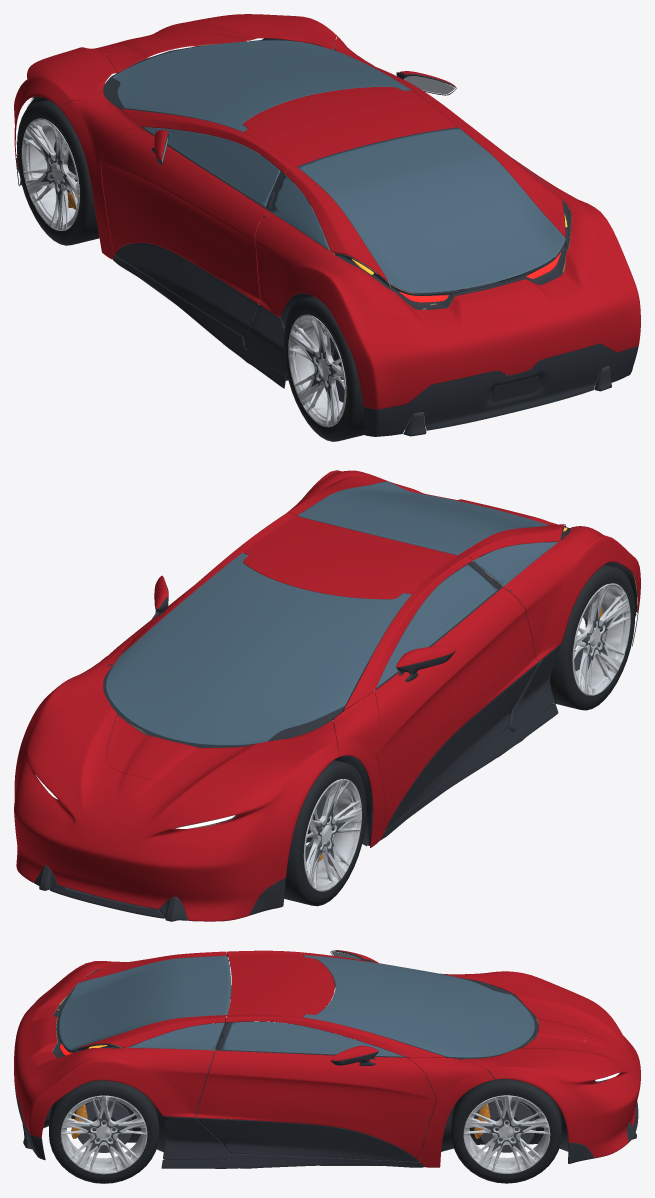
File: car.glb
3 renders of one model, top to bottom at view 1: azimuth 30°, elevation 25°; view 2: azimuth 150°, elevation 25°; view 3: azimuth 270°, elevation 25°, orthographic. The views are drawn at different scales.
Visible parts, largest first — view 1: car_paint, car_glass, car_trim, wheel_lf_alloy, wheel_lr_alloy, wheel_lf_rubber, wheel_lr_rubber; view 2: car_paint, car_glass, car_trim, wheel_lf_alloy, wheel_lr_alloy, wheel_lr_rubber, wheel_lf_rubber; view 3: car_paint, car_glass, car_trim, wheel_rf_rubber, wheel_rr_rubber, wheel_rr_alloy, wheel_rf_alloy, brake_rf_darkalloy, car_darkalloy, wheel_rr_darkalloy, wheel_rf_darkalloy.
Boxes of the visible parts, <box> form: car_paint: <box>14,14,640,409</box>; car_glass: <box>113,40,565,293</box>; car_trim: <box>15,38,638,436</box>; wheel_lf_alloy: <box>21,118,79,230</box>; wheel_lr_alloy: <box>288,314,346,427</box>; wheel_lf_rubber: <box>17,99,99,245</box>; wheel_lr_rubber: <box>283,296,364,441</box>; car_paint: <box>14,470,640,921</box>; car_glass: <box>106,481,565,745</box>; car_trim: <box>34,525,638,921</box>; wheel_lf_alloy: <box>303,779,361,891</box>; wheel_lr_alloy: <box>572,583,630,695</box>; wheel_lr_rubber: <box>550,565,635,710</box>; wheel_lf_rubber: <box>284,760,366,906</box>; car_paint: <box>14,950,640,1167</box>; car_glass: <box>58,955,534,1057</box>; car_trim: <box>14,950,638,1168</box>; wheel_rf_rubber: <box>451,1077,561,1183</box>; wheel_rr_rubber: <box>49,1080,159,1183</box>; wheel_rr_alloy: <box>60,1095,147,1174</box>; wheel_rf_alloy: <box>463,1095,550,1173</box>; brake_rf_darkalloy: <box>480,1099,535,1152</box>; car_darkalloy: <box>77,1100,132,1152</box>; wheel_rr_darkalloy: <box>80,1110,127,1151</box>; wheel_rf_darkalloy: <box>483,1110,530,1151</box>.
Bounding box in the file's own units: 2.05 × 1.32 × 5.
